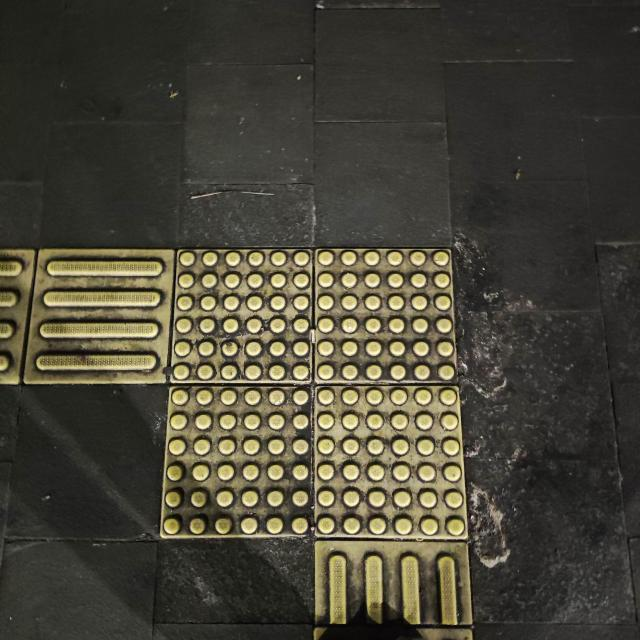kiri: (0, 188, 584, 616)
